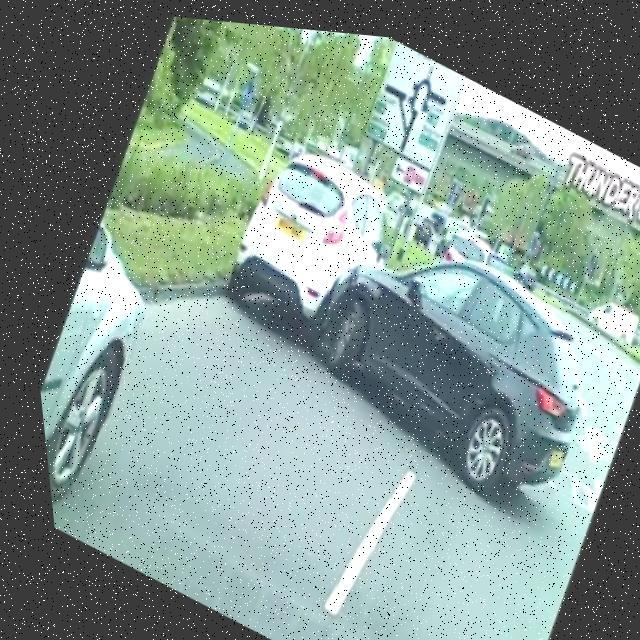Car Accident Detector - v4 Generation1 Exported: (169, 96, 640, 529)
